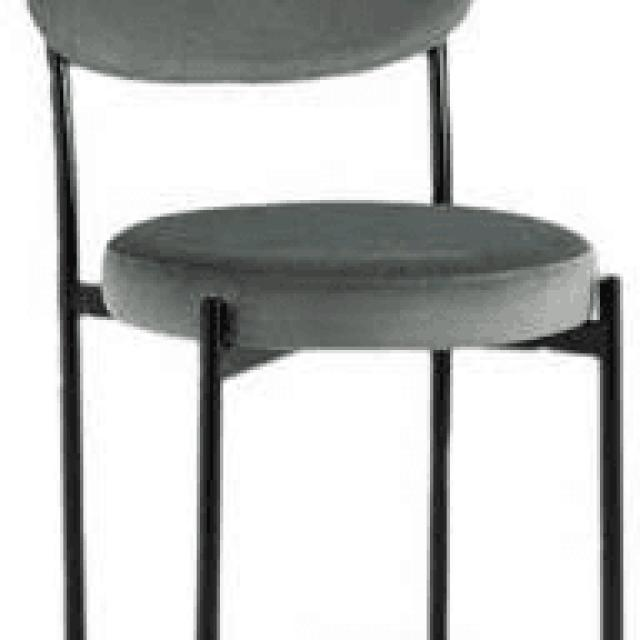chair: (14, 0, 636, 640), (27, 0, 598, 351)
